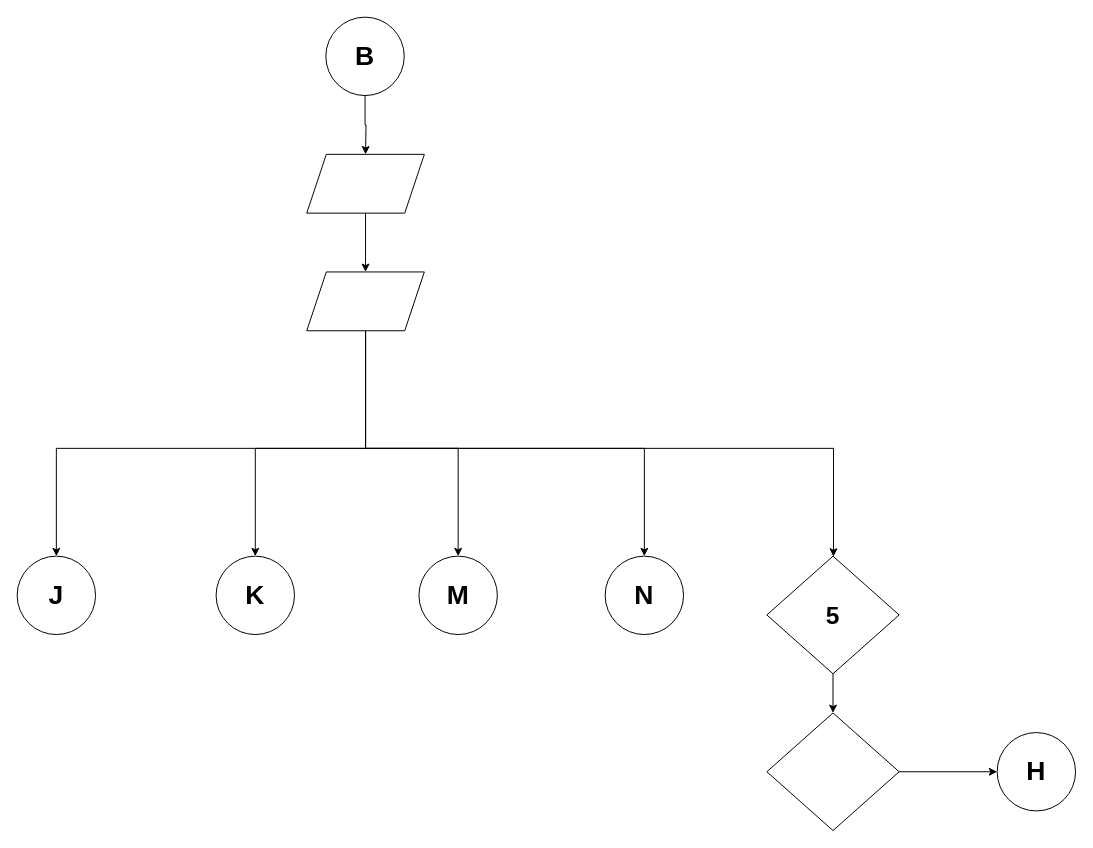
The diagram is 1093 pixels wide and 848 high, and some of its shapes have lost their labels. Each missing label, with the centre of its shape:
"Input pilihan" belongs at [365,301].
"Log Out" belongs at [832,771].
"Menu user" belongs at [365,183].
